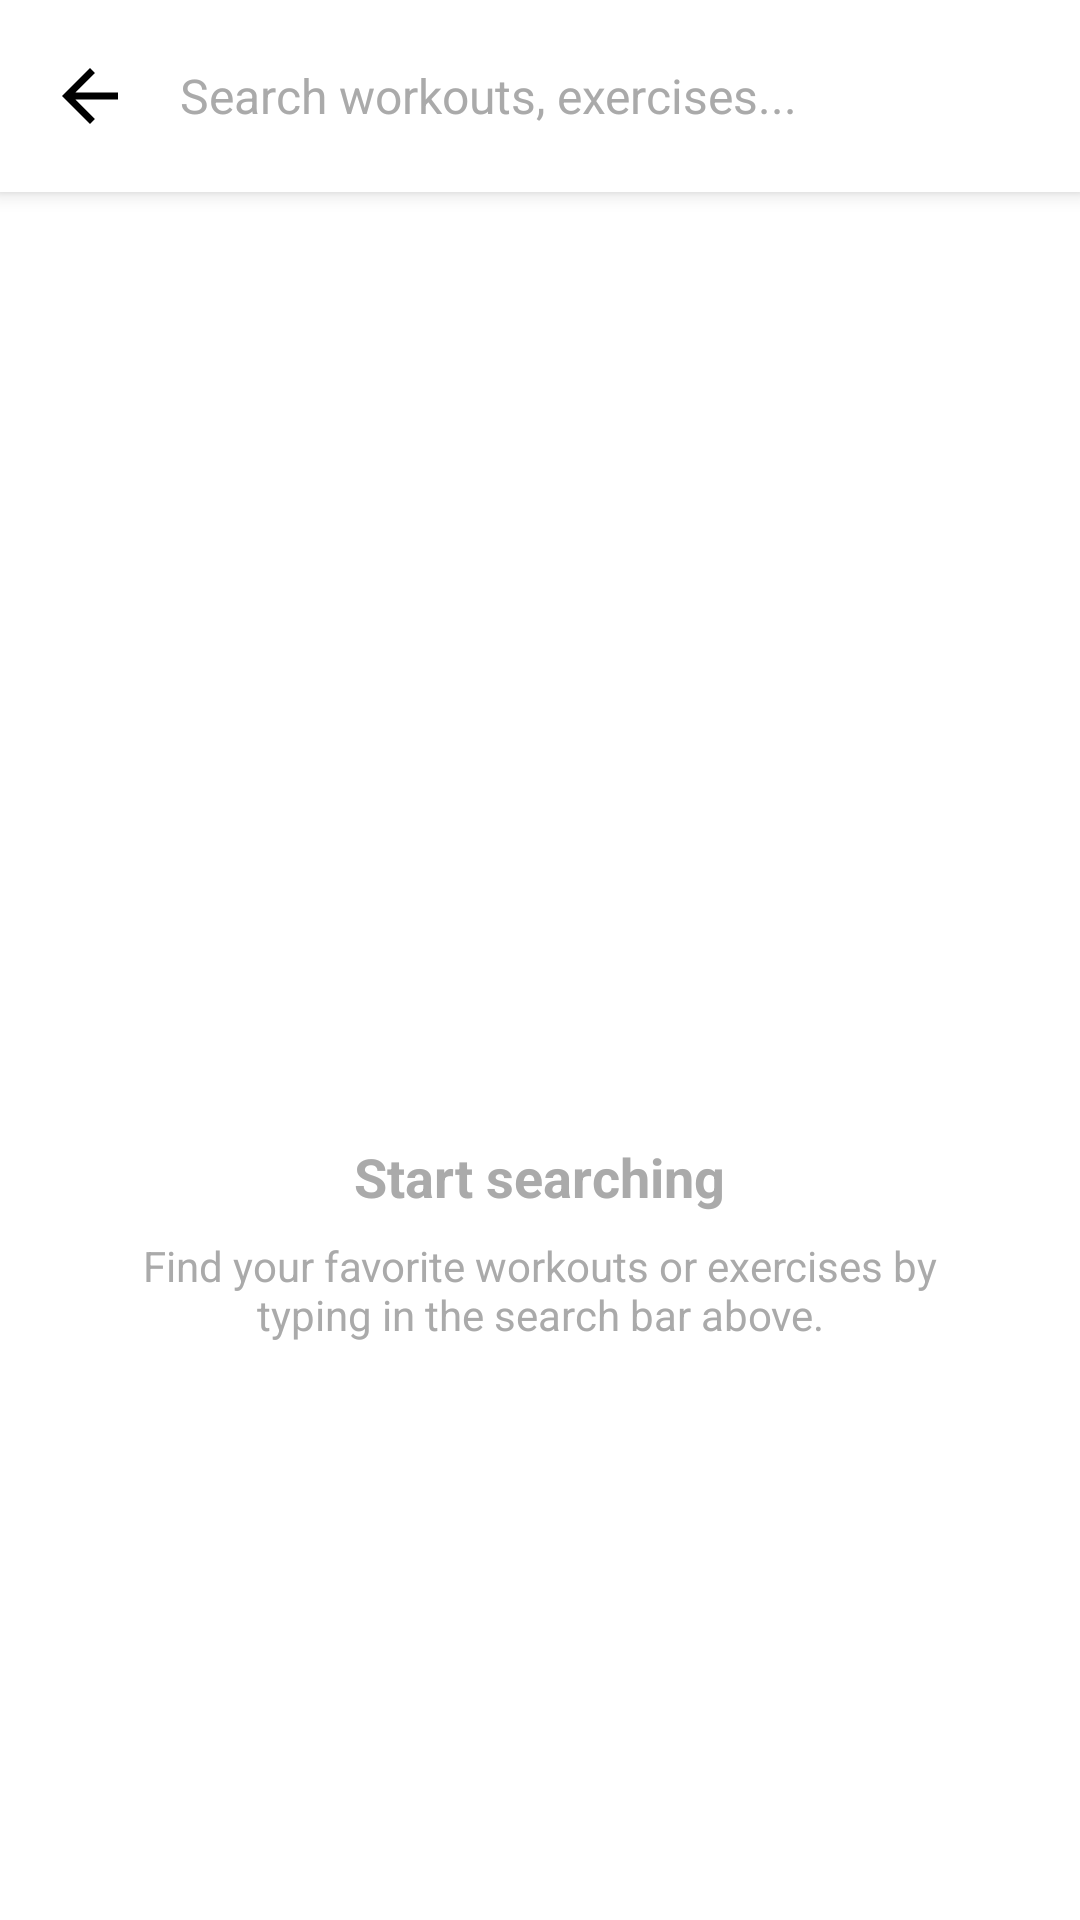

Icons on this 1080x1920 Android screen, each with the point to tap as point (x, y):
arrow back: point (90, 96)
